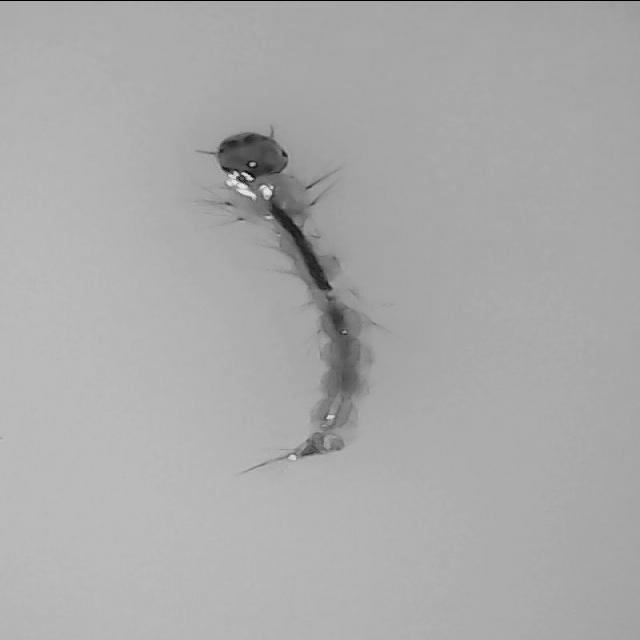larvas: (202, 132, 373, 468)
